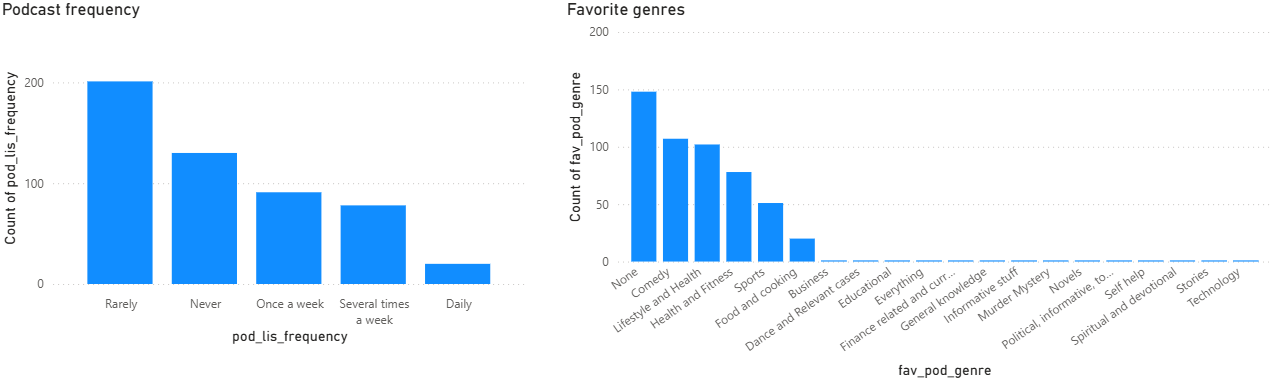

What the dashboard file says about the page in this screenshot:
{"tool":"powerbi","page":{"name":"Listening Behavior","canvas":[1280,720],"ordinal":1},"visuals":[{"type":"clusteredColumnChart","title":"Podcast frequency","fields":{"Category":["Spotify_data.pod_lis_frequency"],"Y":["CountNonNull(Spotify_data.pod_lis_frequency)"]},"box":[0,0,534.5,350],"z":0},{"type":"clusteredColumnChart","title":"Favorite genres","fields":{"Category":["Spotify_data.fav_pod_genre"],"Y":["CountNonNull(Spotify_data.fav_pod_genre)"]},"box":[565.5,0,714.5,384.5],"z":1}]}

Visuals, with their boxes on the page's 1280x720 design canvas (x1, y1, x2, y2). These are canvas units, not pixel positions in the 1270x380 screenshot, which may show the page scaled, cropped or inside an application window:
"Podcast frequency" clusteredColumnChart: 0/0/534/350
"Favorite genres" clusteredColumnChart: 566/0/1280/384
